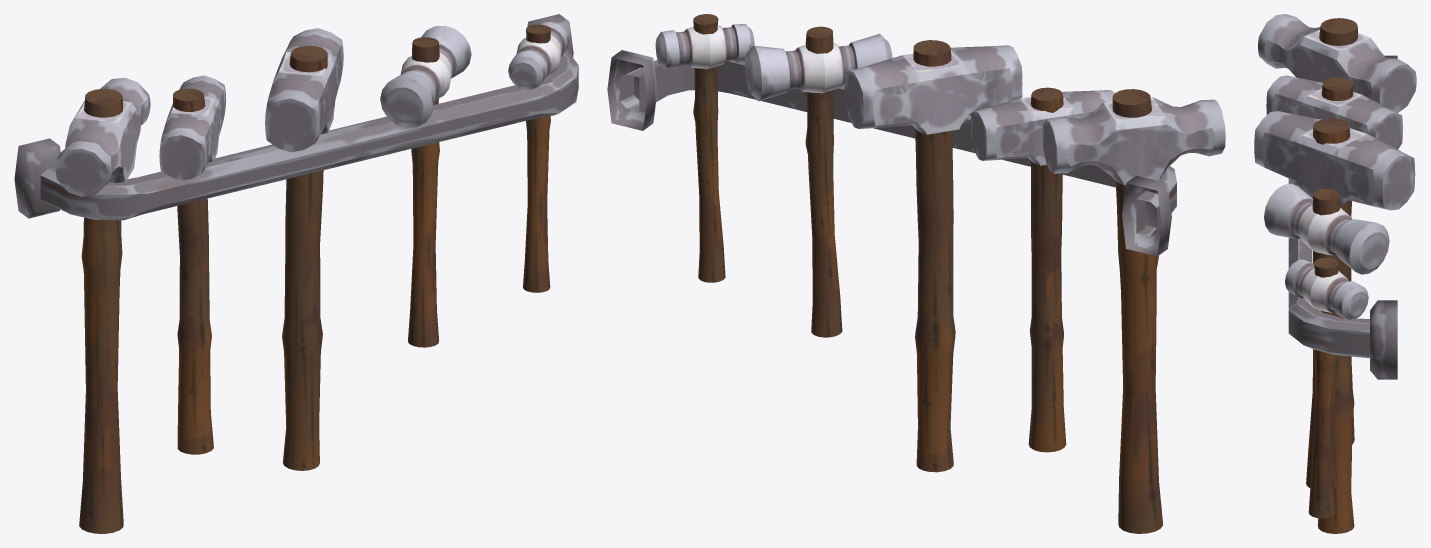
Rendered from Hammer_Rack.gltf.
3 views of the same model, side by side, from view 1: azimuth 30°, elevation 25°; view 2: azimuth 150°, elevation 25°; view 3: azimuth 270°, elevation 25° (orthographic). The views are drawn at different scales.
Parts seen in each view (by area): view 1: Hammer_Rack; view 2: Hammer_Rack; view 3: Hammer_Rack.
Part boxes in pixels (x1,y1,x2,y2): Hammer_Rack: (14,14,578,533); Hammer_Rack: (607,14,1225,533); Hammer_Rack: (1254,14,1416,533).
Size of the model in its own units: 0.7158 by 0.5184 by 0.1829.
2 materials, 2 textured.
